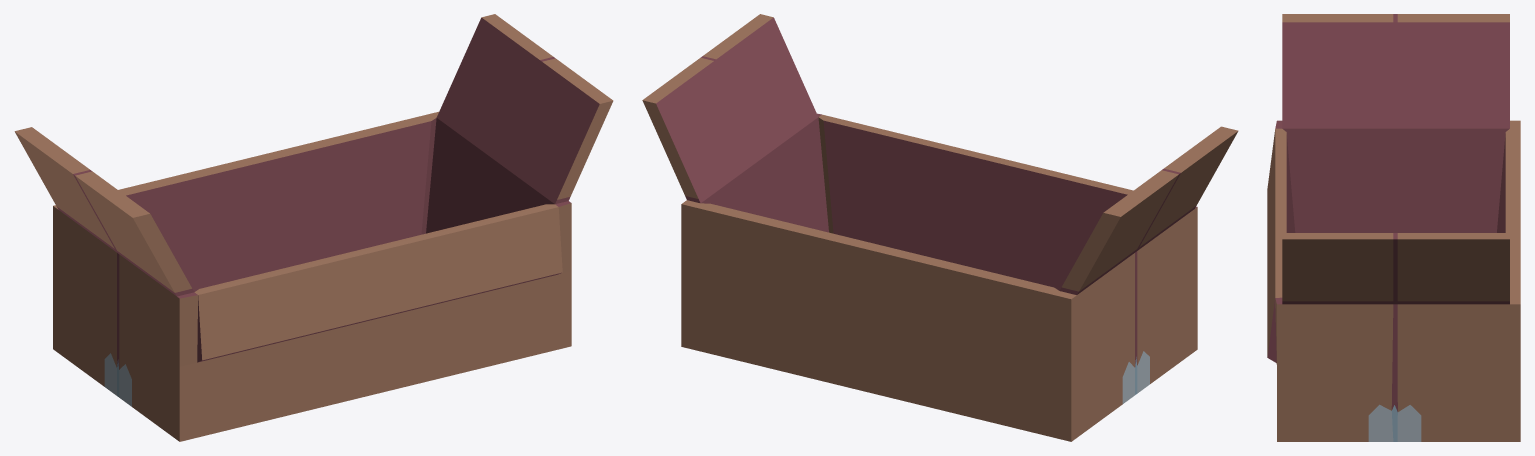
The model's file is Robot_Dropbox.fbx.
3 renders of one model, left to right at view 1: azimuth 30°, elevation 25°; view 2: azimuth 150°, elevation 25°; view 3: azimuth 270°, elevation 25°, orthographic. The views are drawn at different scales.
Visible parts, largest first — view 1: Cube.325; view 2: Cube.325; view 3: Cube.325.
Boxes of the visible parts, x1,y1,x2,y2 form: Cube.325: (14, 14, 613, 441); Cube.325: (642, 14, 1238, 441); Cube.325: (1267, 14, 1520, 441).
Size of the model in its own units: 181 by 83.79 by 85.95.
